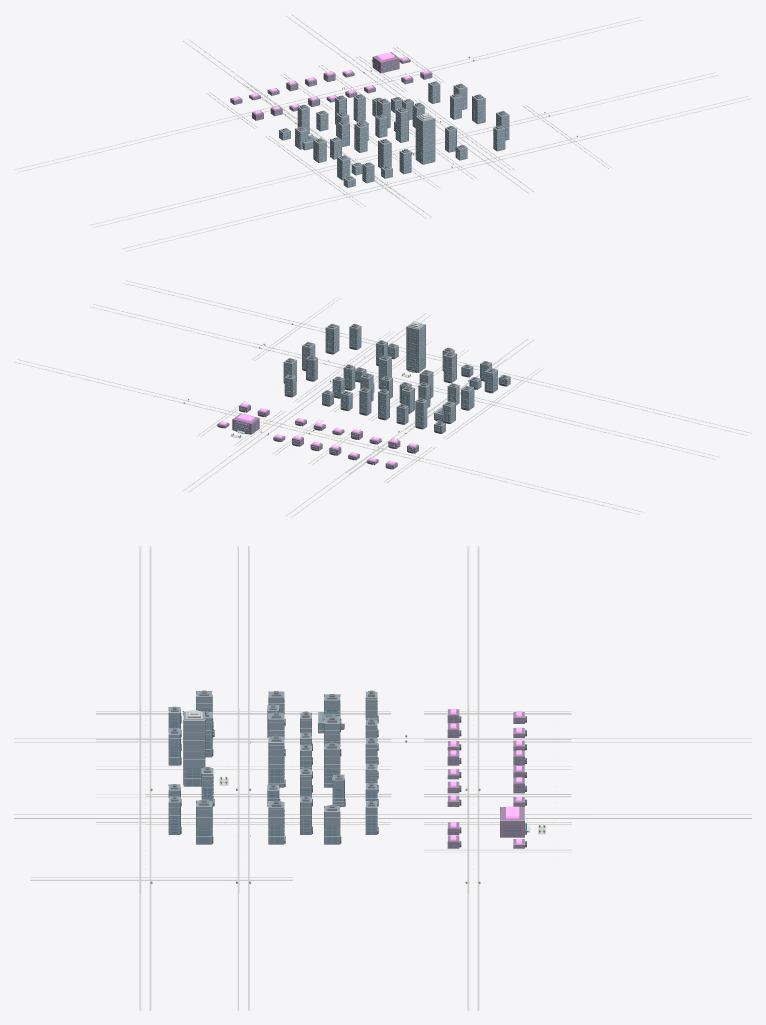
File: detail-sector-center.glb
3 renders of one model, top to bottom at view 1: azimuth 30°, elevation 25°; view 2: azimuth 150°, elevation 25°; view 3: azimuth 270°, elevation 25°, orthographic. The views are drawn at different scales.
Parts seen in each view (by area): view 1: facade_downtown, trim_light, glass_blue, facade_night, v4_arch_center_arch_dark, v4_arch_center_arch_light, v4_arch_center_arch_mid, curb, v4_arch_center_arch_neon_magenta; view 2: facade_downtown, trim_light, glass_blue, v4_arch_center_arch_dark, facade_night, v4_arch_center_arch_mid, v4_arch_center_arch_glass, v4_arch_center_arch_light, v4_arch_center_arch_neon_magenta, curb; view 3: trim_light, facade_downtown, glass_blue, facade_night, road_white, curb, v4_arch_center_arch_dark, v4_arch_center_arch_light, v4_arch_center_arch_mid, v4_arch_center_arch_neon_magenta.
Part boxes in pixels (x1=…): facade_downtown: x1=279, y1=81, x2=508, y2=187; trim_light: x1=14, y1=14, x2=751, y2=251; glass_blue: x1=231, y1=61, x2=507, y2=186; facade_night: x1=230, y1=52, x2=431, y2=120; v4_arch_center_arch_dark: x1=282, y1=83, x2=509, y2=187; v4_arch_center_arch_light: x1=279, y1=86, x2=508, y2=185; v4_arch_center_arch_mid: x1=281, y1=81, x2=506, y2=179; curb: x1=208, y1=47, x2=582, y2=195; v4_arch_center_arch_neon_magenta: x1=233, y1=52, x2=429, y2=113; facade_downtown: x1=284, y1=322, x2=510, y2=433; trim_light: x1=14, y1=280, x2=751, y2=517; glass_blue: x1=226, y1=336, x2=509, y2=467; v4_arch_center_arch_dark: x1=218, y1=321, x2=506, y2=469; facade_night: x1=217, y1=403, x2=418, y2=469; v4_arch_center_arch_mid: x1=286, y1=323, x2=508, y2=425; v4_arch_center_arch_glass: x1=285, y1=329, x2=505, y2=431; v4_arch_center_arch_light: x1=284, y1=321, x2=509, y2=431; v4_arch_center_arch_neon_magenta: x1=220, y1=403, x2=416, y2=465; curb: x1=176, y1=319, x2=524, y2=478; trim_light: x1=14, y1=546, x2=751, y2=1010; facade_downtown: x1=169, y1=691, x2=377, y2=844; glass_blue: x1=170, y1=708, x2=528, y2=847; facade_night: x1=448, y1=709, x2=524, y2=848; road_white: x1=14, y1=546, x2=751, y2=1010; curb: x1=119, y1=709, x2=593, y2=894; v4_arch_center_arch_dark: x1=168, y1=691, x2=526, y2=847; v4_arch_center_arch_light: x1=168, y1=693, x2=377, y2=840; v4_arch_center_arch_mid: x1=171, y1=690, x2=374, y2=810; v4_arch_center_arch_neon_magenta: x1=450, y1=709, x2=525, y2=843.
Size of the model in its own units: 3350 by 262 by 2250.
